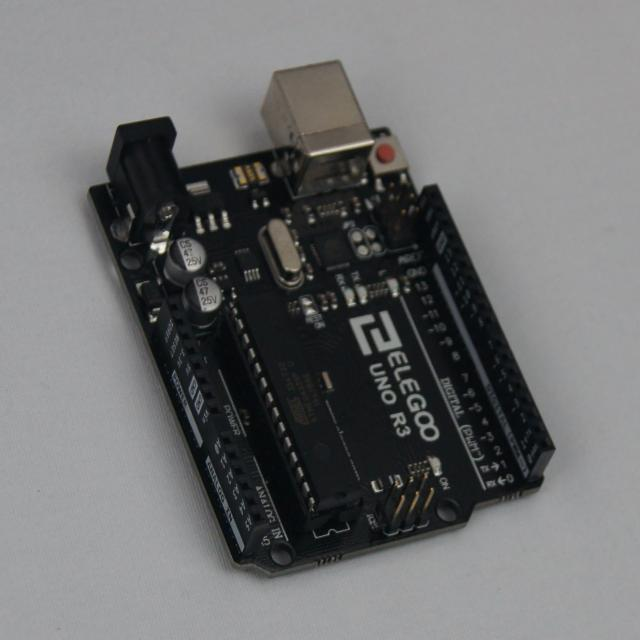Arduino Uno -Black-: (91, 62, 555, 574)
